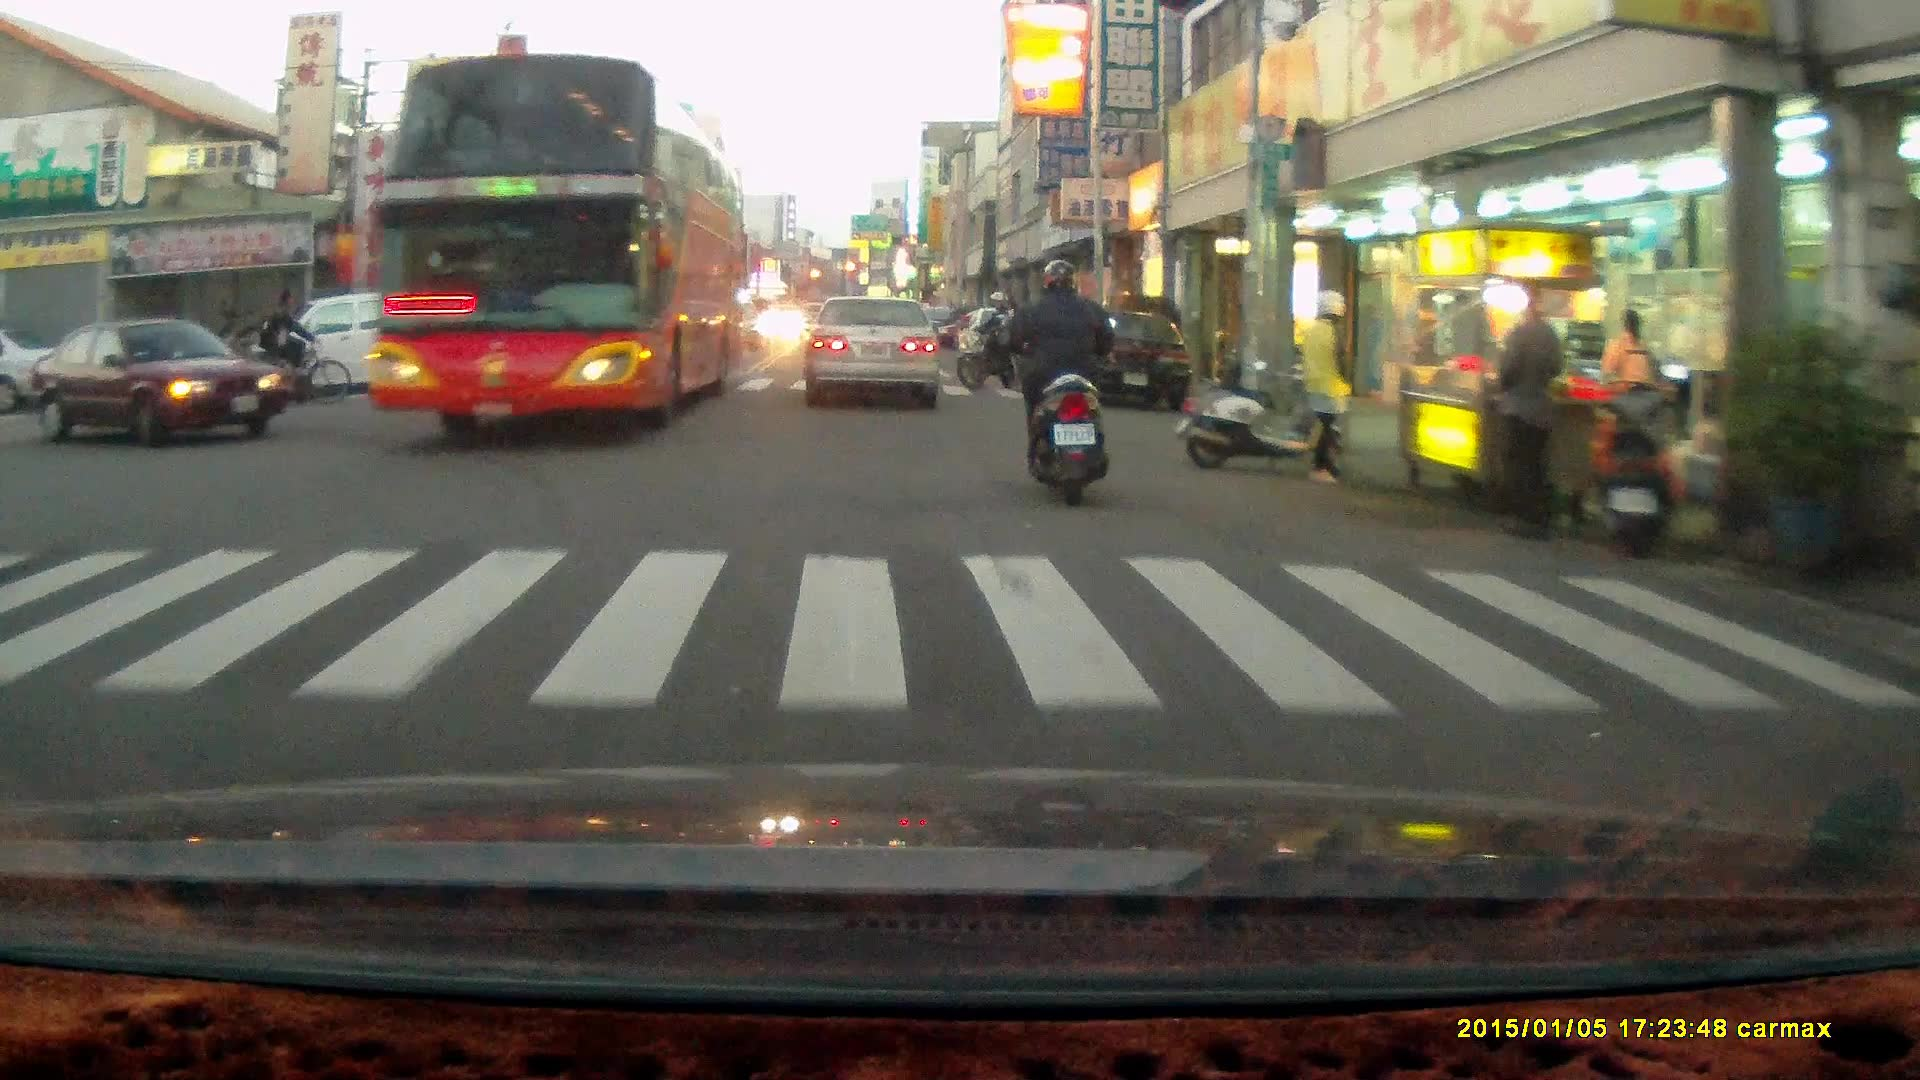pedestrian: (1495, 278, 1565, 544), (1298, 288, 1356, 482), (1600, 308, 1660, 492)
rider: (1001, 248, 1117, 497), (238, 287, 349, 406), (954, 287, 1023, 391)
vehicle: (366, 54, 750, 436), (26, 311, 284, 446), (281, 295, 441, 399), (804, 296, 945, 407), (1051, 304, 1193, 413)
